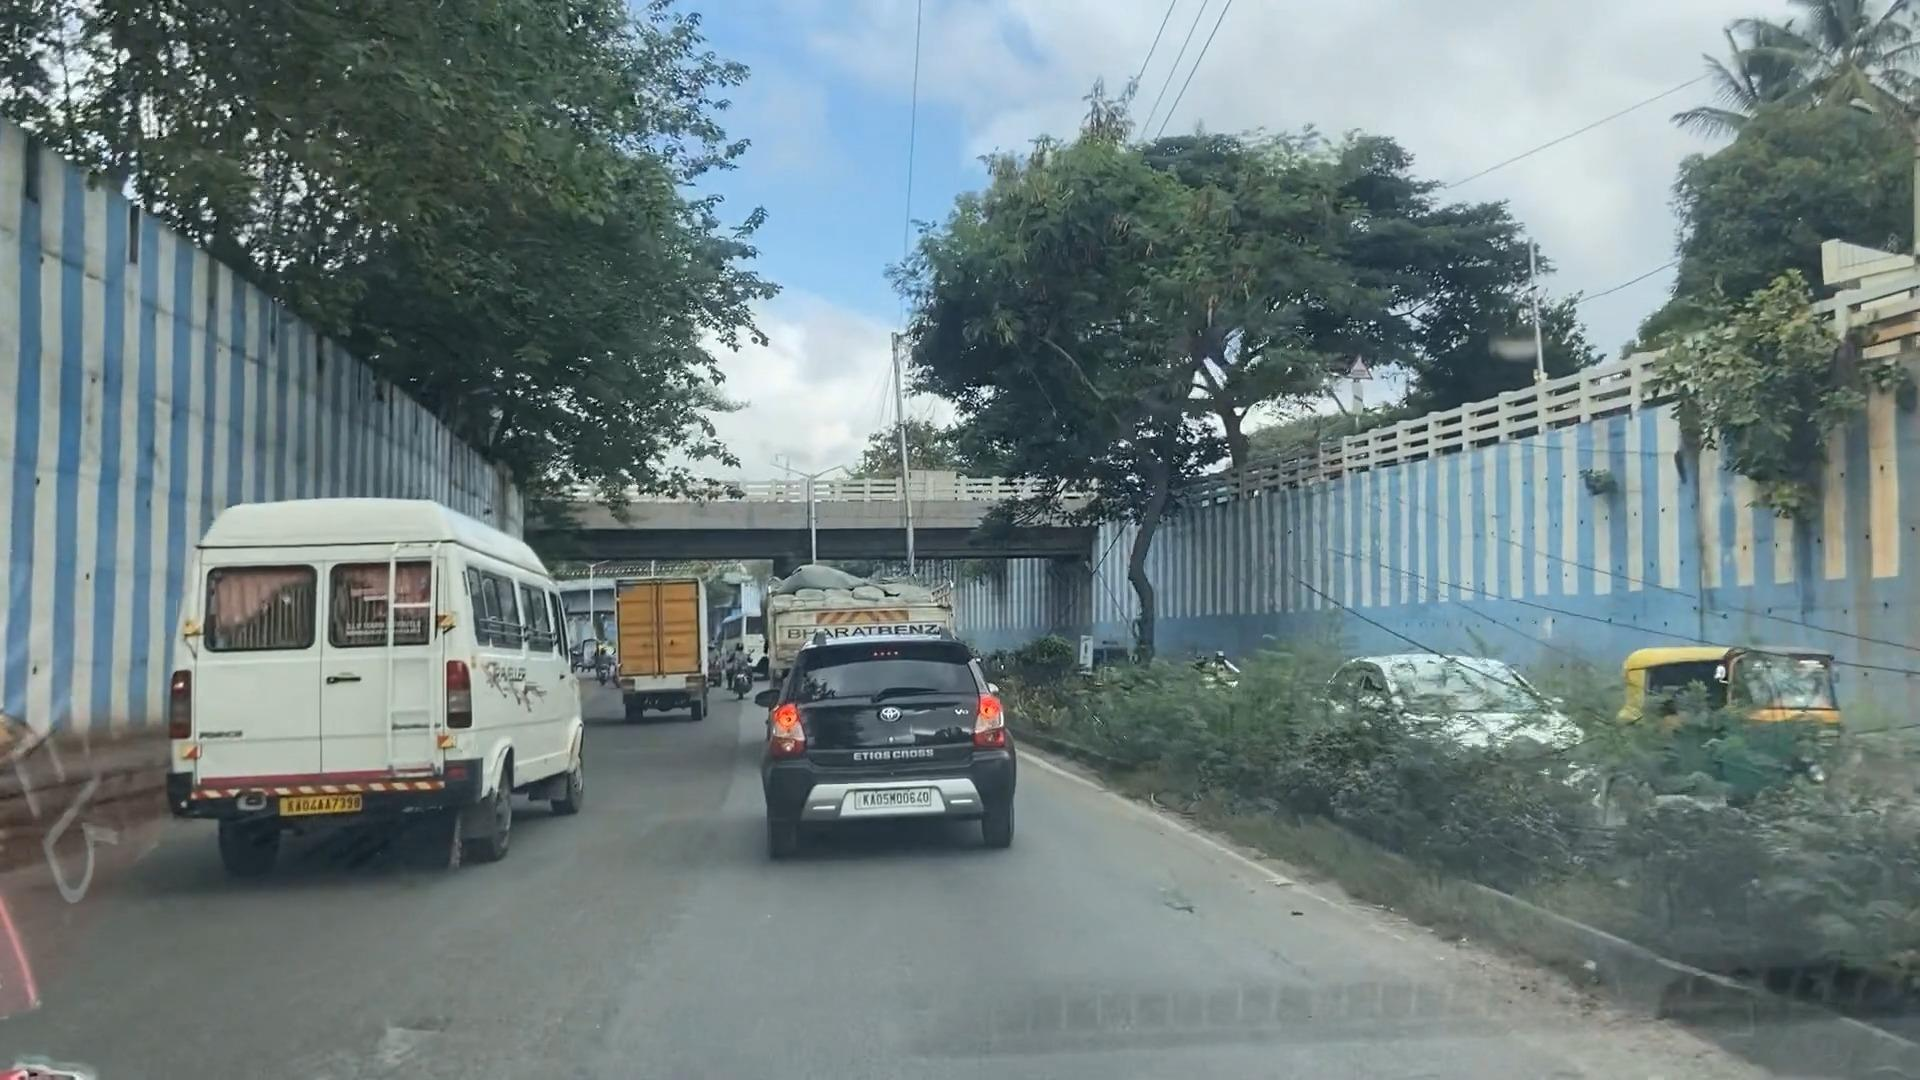HMV: (164, 491, 576, 897), (617, 582, 708, 717)
LMV: (771, 641, 1023, 862)
RoadDamages: (343, 981, 436, 1080)
